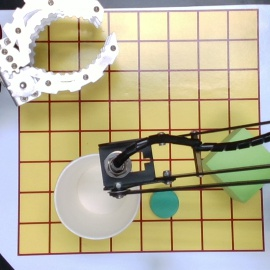cup: (53, 155, 140, 239)
green: (150, 189, 180, 218)
